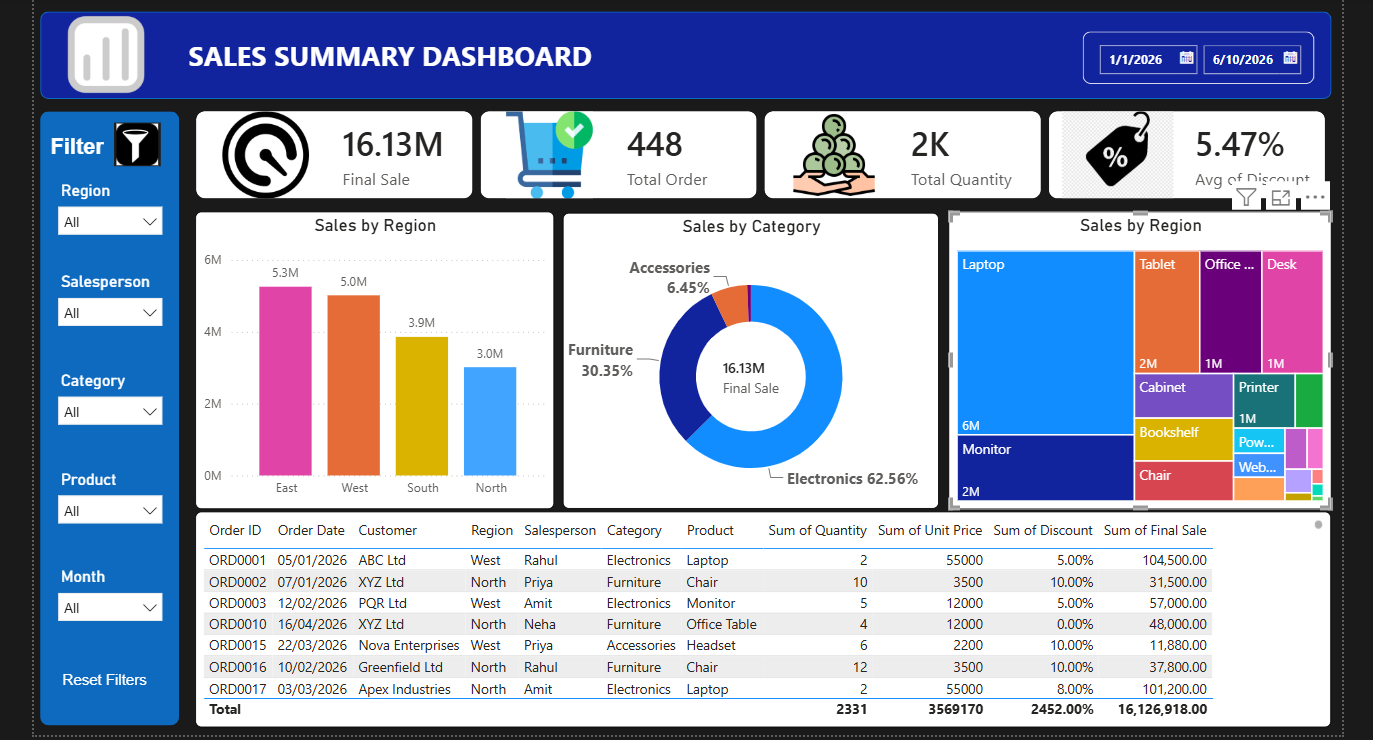

The dashboard page shown, as its layout file describes it:
{"tool":"powerbi","page":{"name":"Dashboard","canvas":[1280,720],"ordinal":0},"visuals":[{"type":"shape","box":[6.1,12.2,1263.2,85.6],"z":0},{"type":"image","box":[23.2,13.5,94.2,81.9],"z":1000},{"type":"slicer","fields":{"Values":["Sales_Dashboard_1000_Rows.Order Date"]},"box":[1026,31.8,226.2,51.4],"z":2000},{"type":"shape","box":[6.1,110.1,135.7,600.4],"z":3000},{"type":"image","box":[78.3,121.1,45.2,42.8],"z":4000},{"type":"slicer","fields":{"Values":["Sales_Dashboard_1000_Rows.Region"]},"box":[13.5,173.6,122.3,67.3],"z":5000},{"type":"slicer","fields":{"Values":["Sales_Dashboard_1000_Rows.Salesperson"]},"box":[13.5,262.9,122.3,67.3],"z":6000},{"type":"slicer","fields":{"Values":["Sales_Dashboard_1000_Rows.Category"]},"box":[13.5,359.5,122.3,67.3],"z":7000},{"type":"shape","box":[20.8,634.7,96.6,62.4],"z":8000},{"type":"cardVisual","fields":{"Data":["Sum(Sales_Dashboard_1000_Rows.Final Sale)","CountNonNull(Sales_Dashboard_1000_Rows.Order ID)","Sum(Sales_Dashboard_1000_Rows.Quantity)","Avg(Sales_Dashboard_1000_Rows.Discount)"]},"box":[141.8,92.9,1138.5,119.8],"z":9000},{"type":"clusteredColumnChart","title":"Sales by Region","fields":{"Y":["Sum(Sales_Dashboard_1000_Rows.Sales)"],"Category":["Sales_Dashboard_1000_Rows.Region"]},"box":[157.7,207.9,351,291],"z":10000},{"type":"donutChart","title":"Sales by Category","fields":{"Category":["Sales_Dashboard_1000_Rows.Category"],"Y":["Sum(Sales_Dashboard_1000_Rows.Sales)"]},"box":[517.3,209.1,368.1,289.8],"z":11000},{"type":"treemap","title":"Sales by Region","fields":{"Values":["Sum(Sales_Dashboard_1000_Rows.Sales)"],"Group":["Sales_Dashboard_1000_Rows.Product"]},"box":[895.1,207.9,374.2,291],"z":12000},{"type":"cardVisual","fields":{"Data":["Sum(Sales_Dashboard_1000_Rows.Final Sale)"]},"box":[656.7,330.2,96.6,80.7],"z":13000},{"type":"slicer","fields":{"Values":["Sales_Dashboard_1000_Rows.Product"]},"box":[13.5,456.1,122.3,67.3],"z":14000},{"type":"tableEx","fields":{"Values":["Sales_Dashboard_1000_Rows.Order ID","Sales_Dashboard_1000_Rows.Order Date","Sales_Dashboard_1000_Rows.Customer","Sales_Dashboard_1000_Rows.Region","Sales_Dashboard_1000_Rows.Salesperson","Sales_Dashboard_1000_Rows.Category","Sales_Dashboard_1000_Rows.Product","Sum(Sales_Dashboard_1000_Rows.Quantity)","Sum(Sales_Dashboard_1000_Rows.Unit Price)","Sum(Sales_Dashboard_1000_Rows.Discount)","Sum(Sales_Dashboard_1000_Rows.Final Sale)"]},"box":[157.7,501.4,1111.6,211.6],"z":15000},{"type":"slicer","fields":{"Values":["Sales_Dashboard_1000_Rows.Order Date.Variation.Date Hierarchy.Month"]},"box":[13.5,551.5,122.3,67.3],"z":15001}]}

Visuals, with their boxes in screenshot pixels (x1, y1, x2, y2):
shape: {"x1": 42, "y1": 12, "x2": 1323, "y2": 99}
image: {"x1": 59, "y1": 14, "x2": 155, "y2": 97}
slicer - Sales_Dashboard_1000_Rows.Order Date: {"x1": 1076, "y1": 32, "x2": 1305, "y2": 84}
shape: {"x1": 42, "y1": 112, "x2": 180, "y2": 720}
image: {"x1": 115, "y1": 123, "x2": 161, "y2": 166}
slicer - Sales_Dashboard_1000_Rows.Region: {"x1": 49, "y1": 176, "x2": 173, "y2": 244}
slicer - Sales_Dashboard_1000_Rows.Salesperson: {"x1": 49, "y1": 267, "x2": 173, "y2": 335}
slicer - Sales_Dashboard_1000_Rows.Category: {"x1": 49, "y1": 364, "x2": 173, "y2": 433}
shape: {"x1": 57, "y1": 643, "x2": 155, "y2": 707}
cardVisual - Sum(Sales_Dashboard_1000_Rows.Final Sale) x CountNonNull(Sales_Dashboard_1000_Rows.Order ID): {"x1": 180, "y1": 94, "x2": 1334, "y2": 216}
"Sales by Region" clusteredColumnChart: {"x1": 196, "y1": 211, "x2": 551, "y2": 506}
"Sales by Category" donutChart: {"x1": 560, "y1": 212, "x2": 933, "y2": 506}
"Sales by Region" treemap: {"x1": 943, "y1": 211, "x2": 1323, "y2": 506}
cardVisual - Sum(Sales_Dashboard_1000_Rows.Final Sale): {"x1": 701, "y1": 335, "x2": 799, "y2": 417}
slicer - Sales_Dashboard_1000_Rows.Product: {"x1": 49, "y1": 462, "x2": 173, "y2": 531}
tableEx - Sales_Dashboard_1000_Rows.Order ID x Sales_Dashboard_1000_Rows.Order Date: {"x1": 196, "y1": 508, "x2": 1323, "y2": 723}
slicer - Sales_Dashboard_1000_Rows.Order Date.Variation.Date Hierarchy.Month: {"x1": 49, "y1": 559, "x2": 173, "y2": 627}
